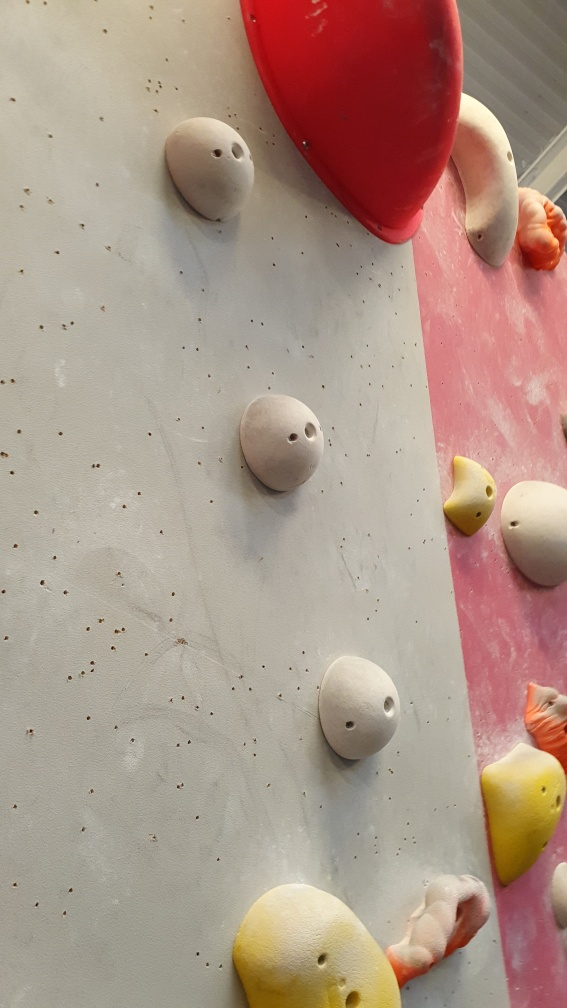Jug: (381, 865, 496, 997), (514, 183, 563, 275)
Sloper: (311, 651, 405, 767), (168, 118, 260, 228), (238, 389, 325, 499), (500, 474, 565, 593)
